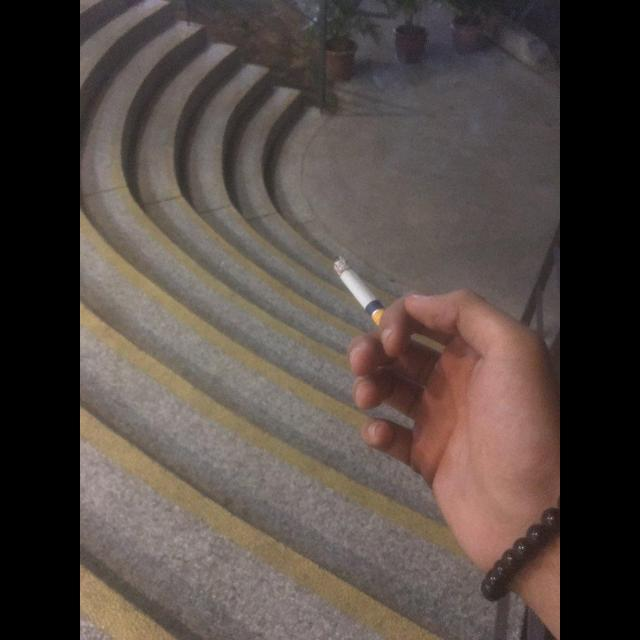rokok: (322, 256, 420, 370)
